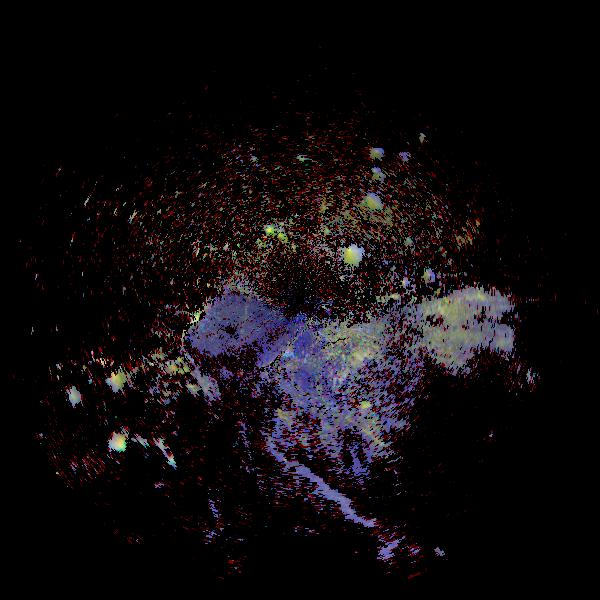roost: (108, 432, 132, 456), (343, 246, 361, 264), (266, 226, 284, 244), (108, 372, 123, 387)
